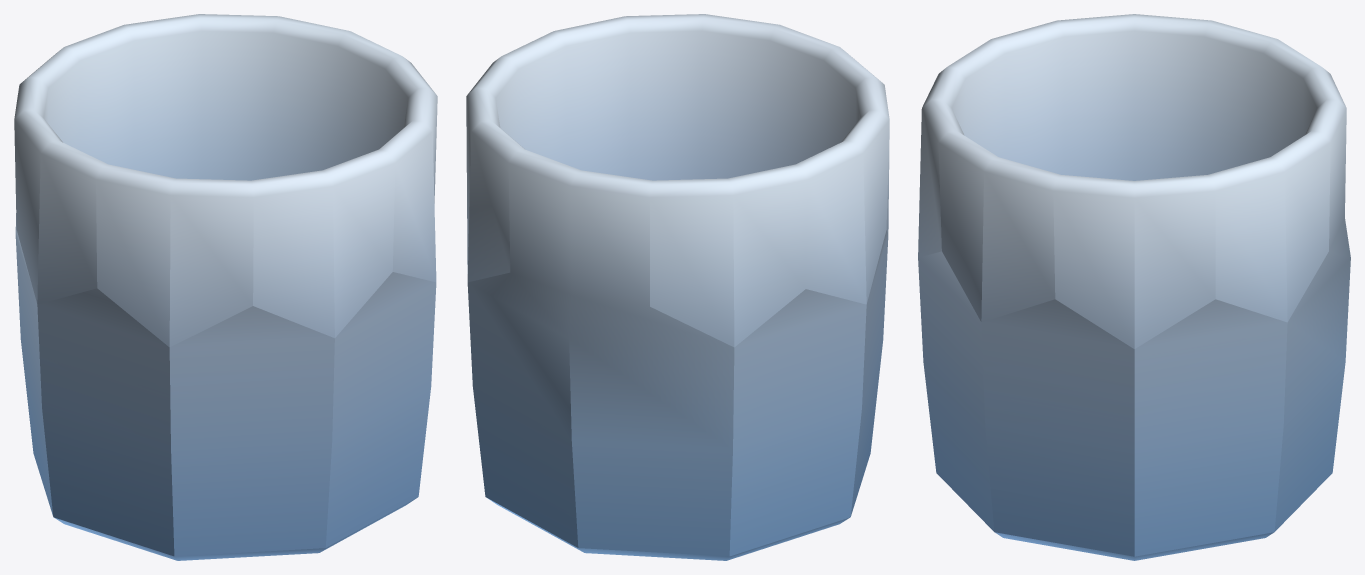
The model's file is glass_004.fbx.
3 renders of one model, left to right at view 1: azimuth 30°, elevation 25°; view 2: azimuth 150°, elevation 25°; view 3: azimuth 270°, elevation 25°, orthographic.
Visible parts, largest first — view 1: glass_004; view 2: glass_004; view 3: glass_004.
Boxes of the visible parts, bbox=[...] form: glass_004: bbox=[14, 14, 437, 560]; glass_004: bbox=[466, 14, 889, 560]; glass_004: bbox=[918, 14, 1350, 560].
Size of the model in its own units: 9.31 by 9.31 by 9.08.
